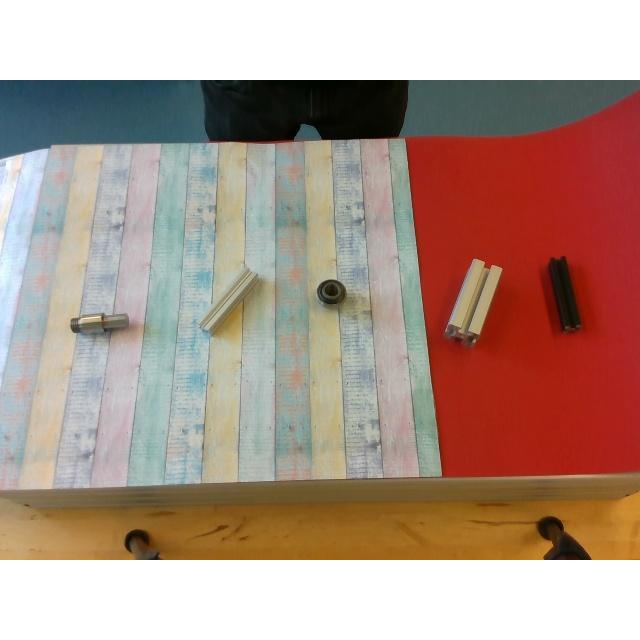Axis2: (71, 310, 129, 336)
Bearing2: (318, 279, 347, 303)
F20_20_B: (548, 256, 580, 328)
F20_20_G: (200, 265, 260, 335)
S40_40_G: (446, 258, 502, 342)
